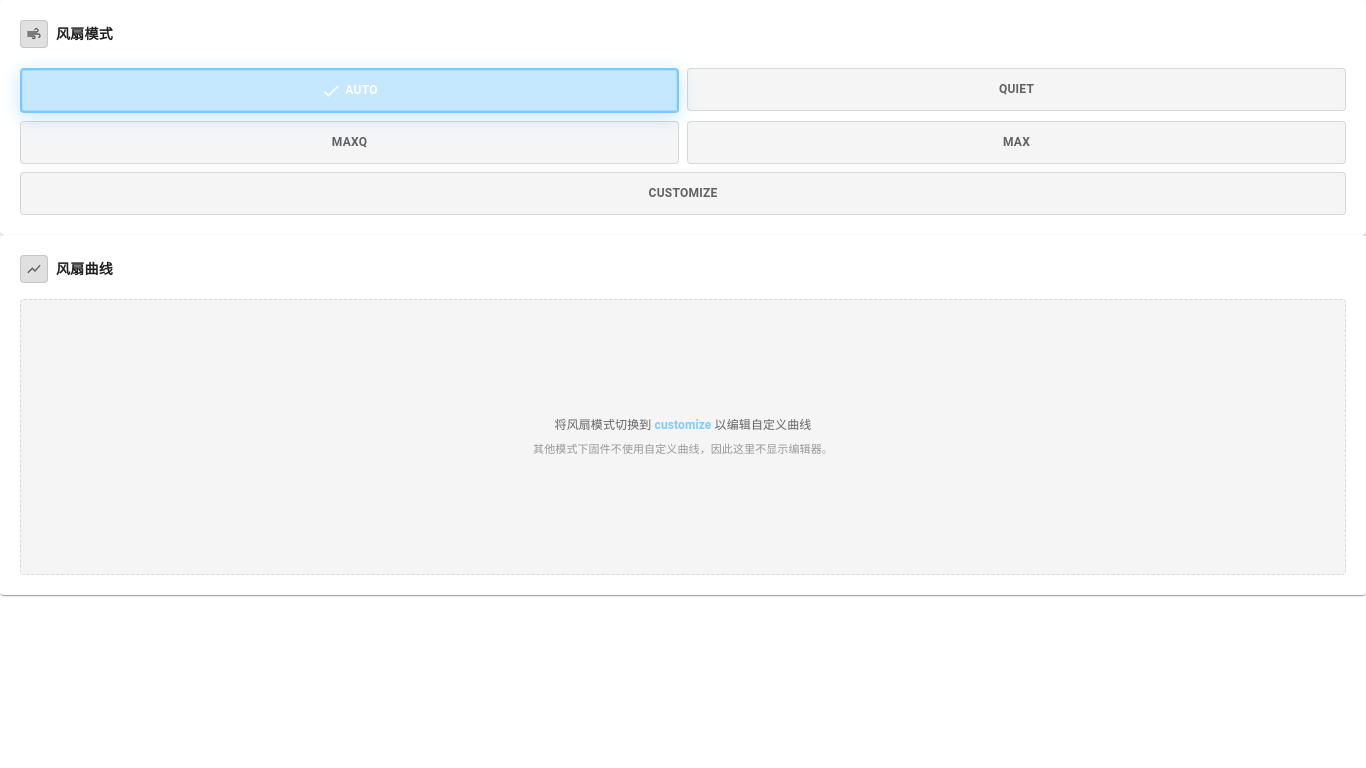
Test: curve editor gate › swaps the hint for the editor after switching to customize
Expected: the button "保存配置" is not shown
Click the button "customize".
click(683, 194)  # box top-left (20, 172), bottom-right (1346, 215)
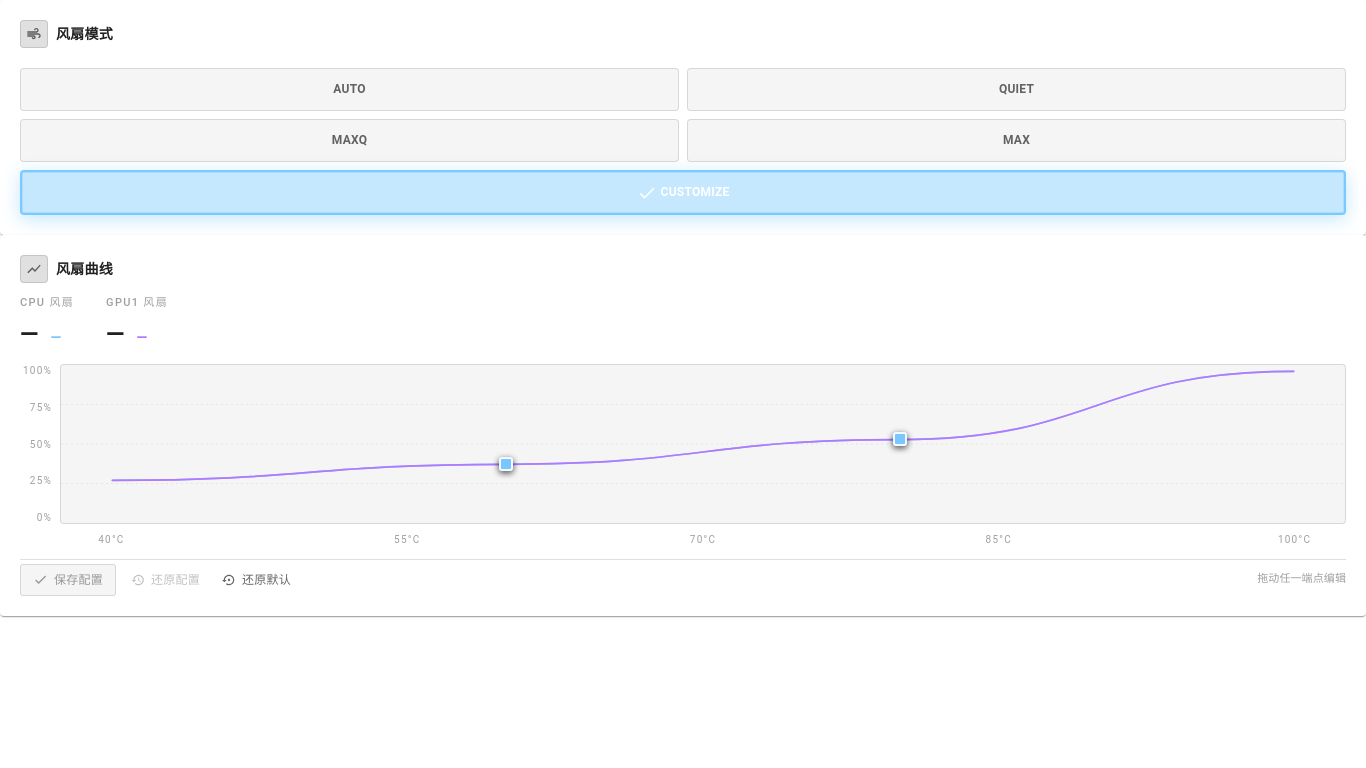
Now the button "保存配置" is shown, box top-left (20, 564), bottom-right (116, 596)
